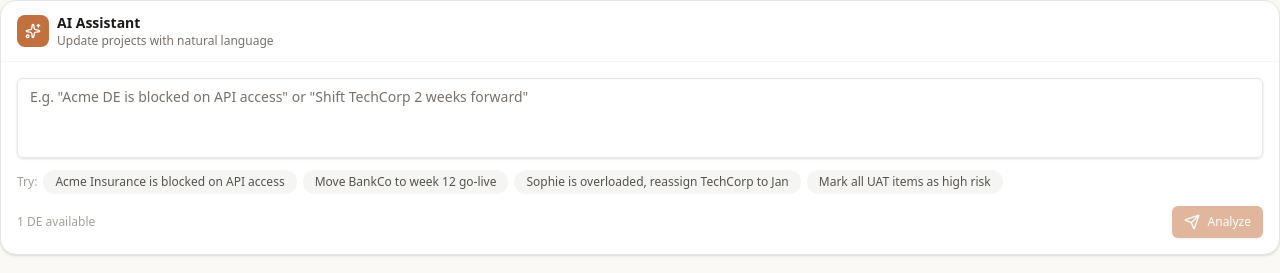
Scenario: PortfolioFeedbackWidget › enables Analyze button when textarea has content
The image size is (1280, 273).
Type "Move Acme forward 2 weeks" into the text box at (640, 118), box [17,78,1263,158]
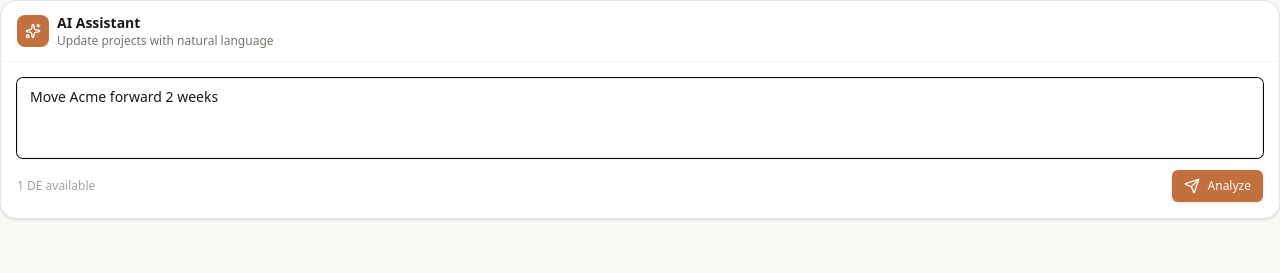
Check: the button "Analyze" is enabled, box [1172,170,1263,202]
